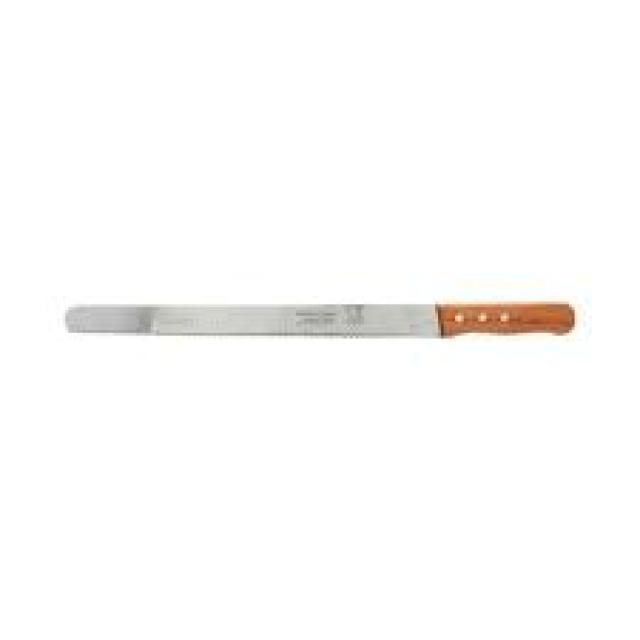Knife: (65, 302, 583, 338)
